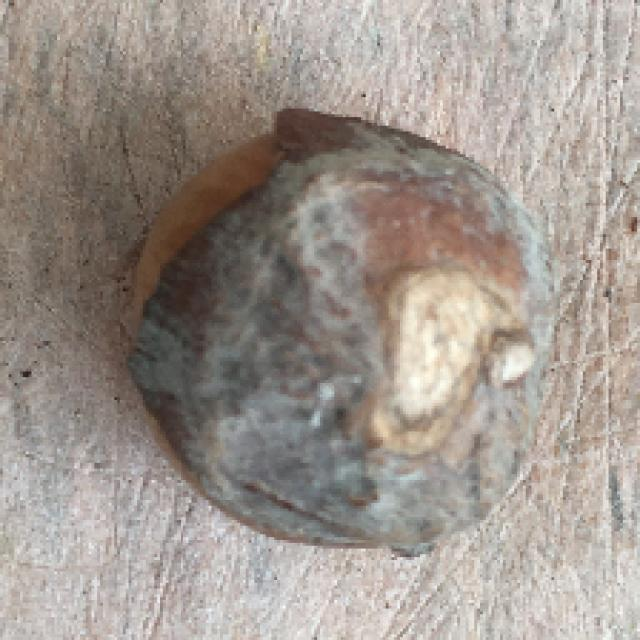damagedHazelnut: (128, 97, 570, 566)
